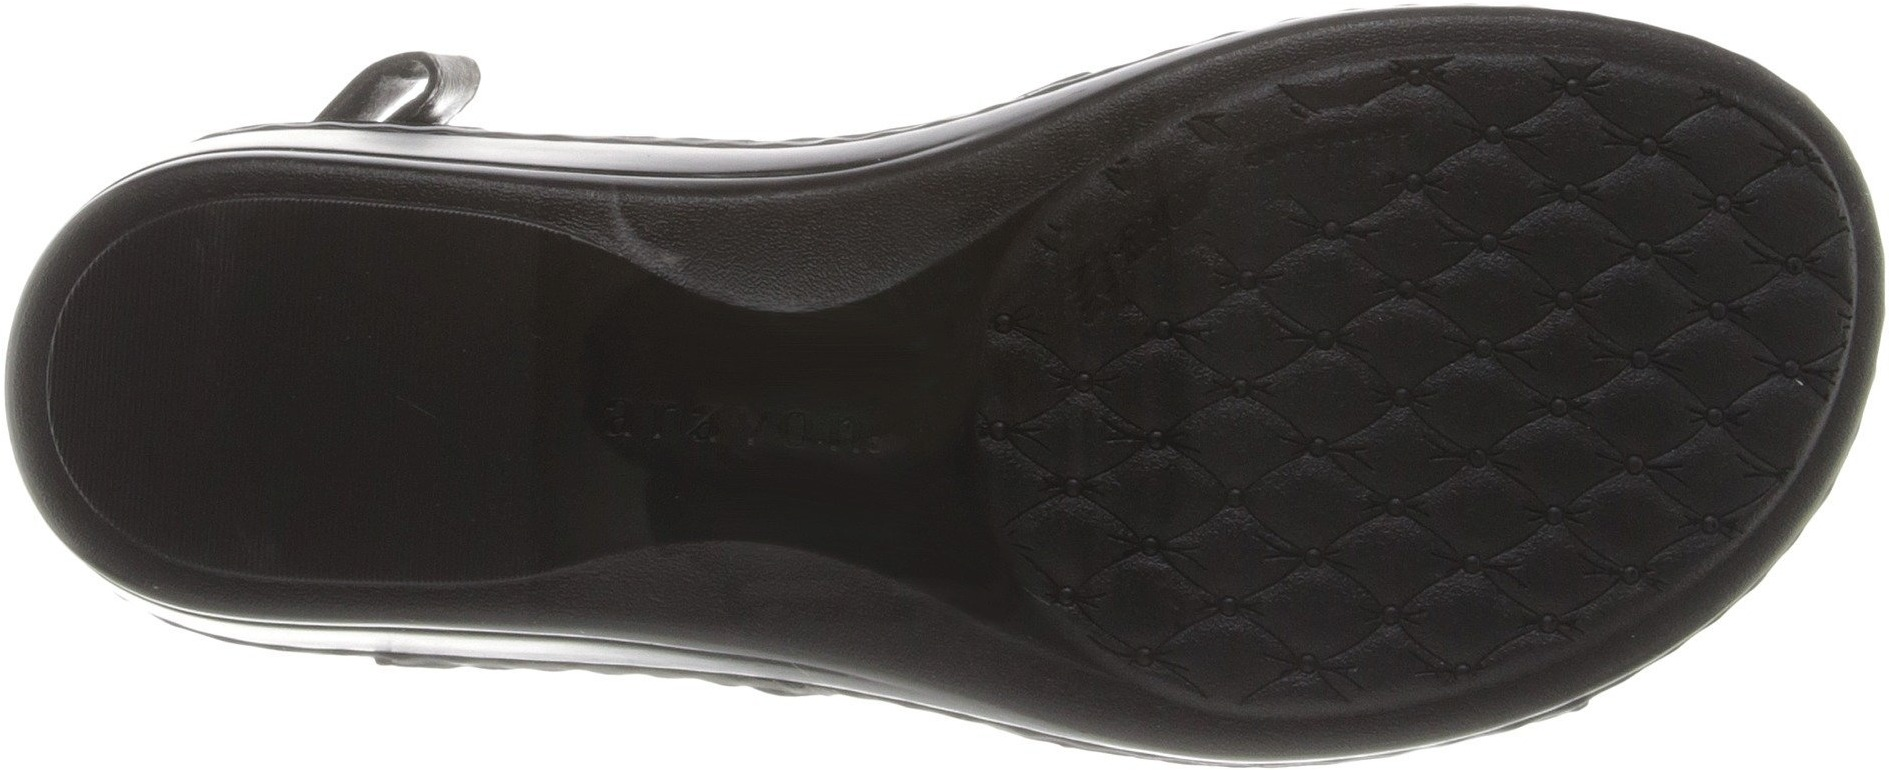other: (145, 231, 507, 556)
text: (679, 382, 779, 476), (776, 381, 867, 470), (598, 380, 684, 463)
